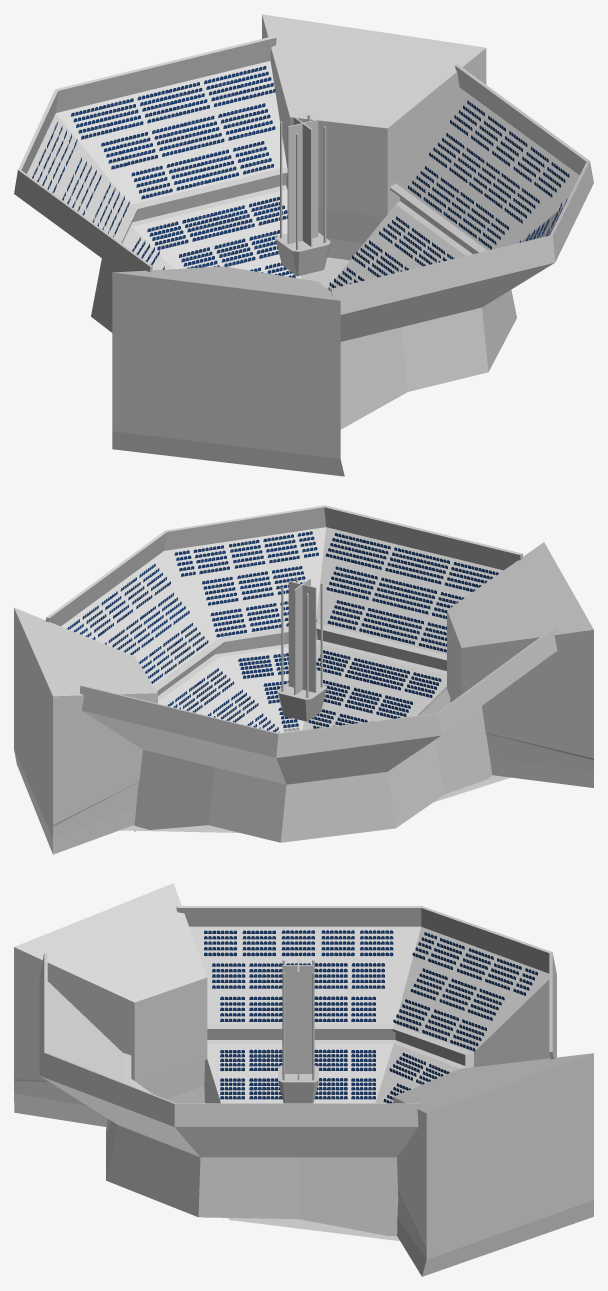
3 renders of one model, top to bottom at view 1: azimuth 30°, elevation 25°; view 2: azimuth 150°, elevation 25°; view 3: azimuth 270°, elevation 25°, orthographic. The views are drawn at different scales.
Parts seen in each view (by area): view 1: Audience, Corner001, Audience001, Corner, Scaff2, Screen, Scaff1; view 2: Audience, Audience001, Corner001, Corner, Scaff2, Screen, Scaff1; view 3: Audience001, Audience, Corner, Corner001, Scaff1, Screen.
Part boxes in pixels (box(x1,y1,x2,y2)): Audience: box(327, 64, 593, 429); Corner001: box(112, 266, 344, 476); Audience001: box(14, 35, 301, 332); Corner: box(262, 14, 486, 288); Scaff2: box(287, 119, 318, 243); Screen: box(275, 232, 330, 276); Scaff1: box(293, 117, 312, 246); Audience: box(45, 505, 523, 732); Audience001: box(79, 627, 557, 842); Corner001: box(434, 542, 593, 801); Corner: box(14, 607, 239, 854); Scaff2: box(288, 581, 316, 692); Screen: box(277, 682, 326, 721); Scaff1: box(294, 578, 310, 694); Audience001: box(176, 906, 556, 1103); Audience: box(39, 953, 419, 1235); Corner: box(229, 1053, 593, 1276); Corner001: box(14, 883, 232, 1220); Scaff1: box(282, 965, 314, 1073); Screen: box(278, 1065, 318, 1103).
Bounding box in the file's own units: 13620 × 5659 × 14477.
3 materials, 3 textured.
